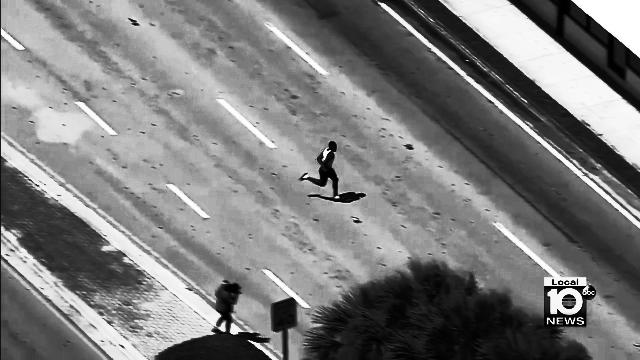berlari: (299, 136, 343, 202)
